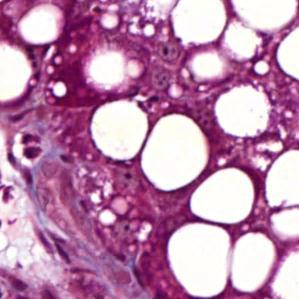steatosis: (188, 167, 256, 227), (89, 98, 151, 160)
